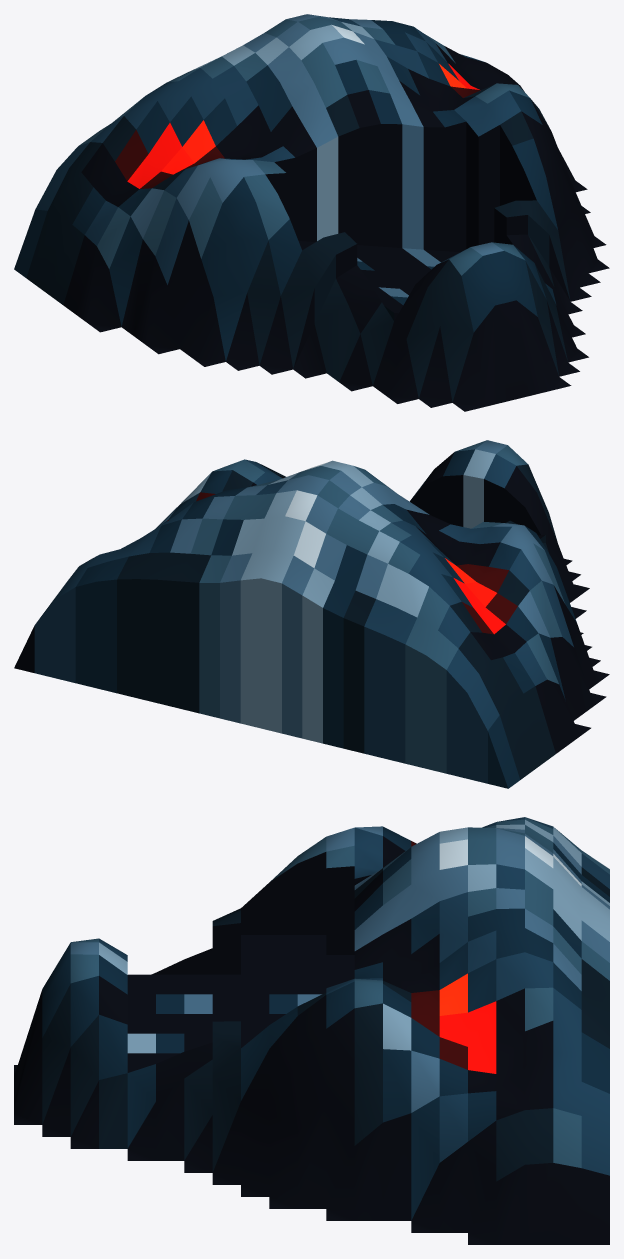
The model's file is newsh0-119-f2.glb.
The picture shows the model from 3 angles, top to bottom: view 1: azimuth 30°, elevation 25°; view 2: azimuth 150°, elevation 25°; view 3: azimuth 270°, elevation 25°; orthographic projection. The views are drawn at different scales.
Parts seen in each view (by area): view 1: newsh0-119-f2; view 2: newsh0-119-f2; view 3: newsh0-119-f2.
Boxes of the visible parts, x1,y1,x2,y2 form: newsh0-119-f2: (14,14,609,411); newsh0-119-f2: (14,440,609,788); newsh0-119-f2: (14,817,609,1244).
Size of the model in its own units: 2 by 0.8477 by 1.75.
